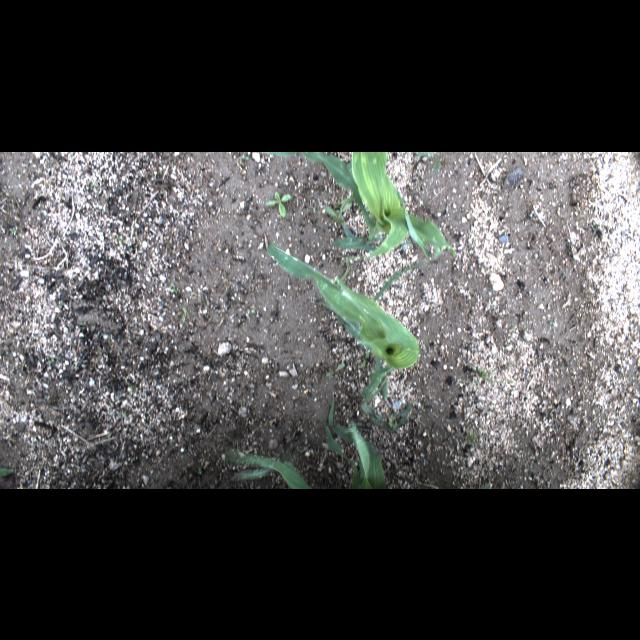crop: (256, 151, 456, 307), (268, 242, 418, 416), (232, 388, 388, 488)
weed: (369, 399, 427, 433), (262, 190, 292, 218), (326, 362, 346, 376), (359, 352, 368, 368)
